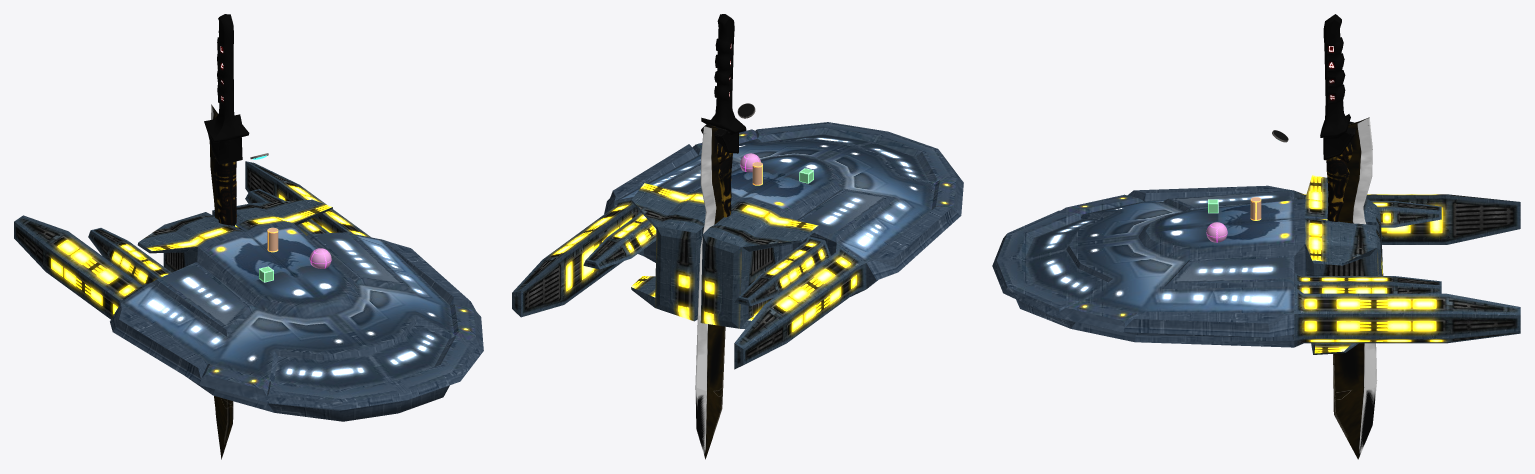
3 views of the same model, side by side, from view 1: azimuth 30°, elevation 25°; view 2: azimuth 150°, elevation 25°; view 3: azimuth 270°, elevation 25° (orthographic). The views are drawn at different scales.
Parts seen in each view (by area): view 1: node_AstraShuttlePrefab-AstraShuttleHull, node_AstraShuttlePrefab-AstraShuttleEngines, node_AncientWarriorBlade, node_AstraShuttlePrefab-AstraShuttleCargo; view 2: node_AstraShuttlePrefab-AstraShuttleHull, node_AstraShuttlePrefab-AstraShuttleEngines, node_AstraShuttlePrefab-AstraShuttleCargo, node_AncientWarriorBlade; view 3: node_AstraShuttlePrefab-AstraShuttleHull, node_AstraShuttlePrefab-AstraShuttleEngines, node_AncientWarriorBlade, node_AstraShuttlePrefab-AstraShuttleCargo.
Part boxes in pixels (<box>): node_AstraShuttlePrefab-AstraShuttleHull: <box>110,221,483,421</box>; node_AstraShuttlePrefab-AstraShuttleEngines: <box>14,161,371,319</box>; node_AncientWarriorBlade: <box>204,14,249,459</box>; node_AstraShuttlePrefab-AstraShuttleCargo: <box>137,199,332,272</box>; node_AstraShuttlePrefab-AstraShuttleHull: <box>604,122,963,288</box>; node_AstraShuttlePrefab-AstraShuttleEngines: <box>512,198,866,369</box>; node_AstraShuttlePrefab-AstraShuttleCargo: <box>631,183,818,328</box>; node_AncientWarriorBlade: <box>695,14,746,459</box>; node_AstraShuttlePrefab-AstraShuttleHull: <box>992,185,1306,347</box>; node_AstraShuttlePrefab-AstraShuttleEngines: <box>1294,190,1520,347</box>; node_AncientWarriorBlade: <box>1320,14,1377,459</box>; node_AstraShuttlePrefab-AstraShuttleCargo: <box>1304,175,1383,354</box>.
Size of the model in its own units: 31.8 by 45.81 by 49.69.
Materials: 8 (5 with a texture image).
